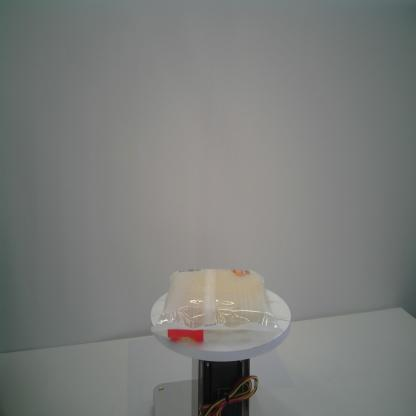Dessert: (150, 267, 286, 344)
